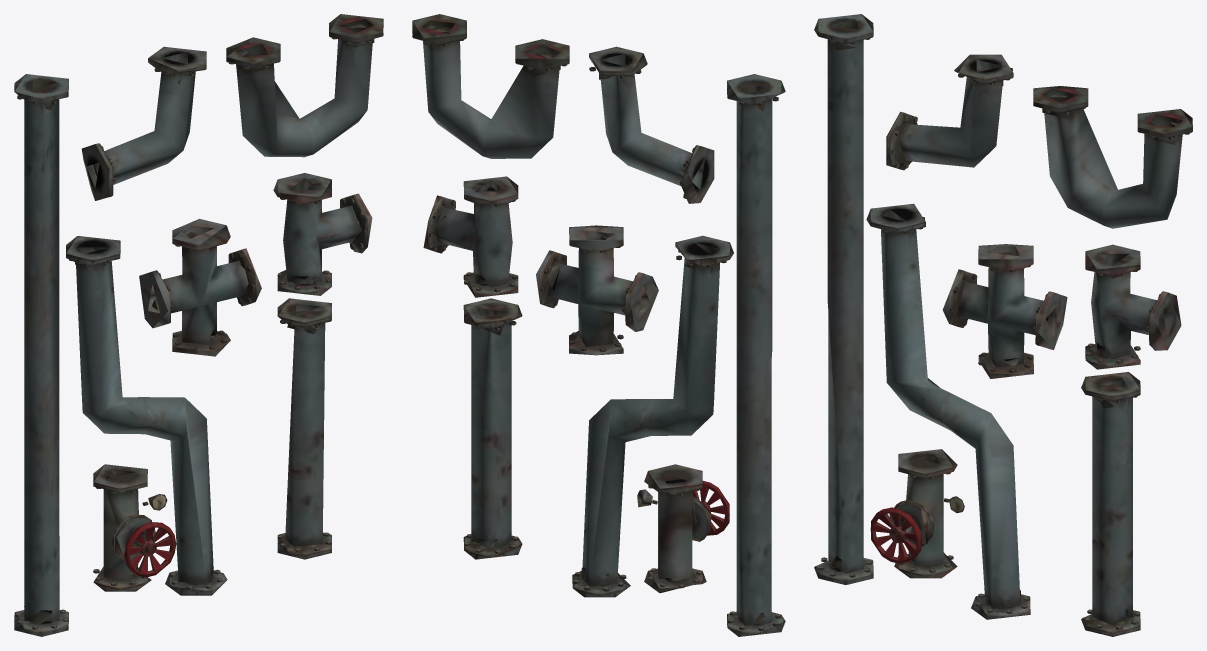
The model's file is modular_industrial_pipes_01_lod2.glb.
3 renders of one model, left to right at view 1: azimuth 30°, elevation 25°; view 2: azimuth 150°, elevation 25°; view 3: azimuth 330°, elevation 25°, orthographic.
Visible parts, largest first — view 1: modular_industrial_pipes_01_pipe01, modular_industrial_pipes_01_pipe05; view 2: modular_industrial_pipes_01_pipe01, modular_industrial_pipes_01_pipe05; view 3: modular_industrial_pipes_01_pipe01, modular_industrial_pipes_01_pipe05.
Boxes of the visible parts, x1,y1,x2,y2 form: modular_industrial_pipes_01_pipe01: (14,46,331,636); modular_industrial_pipes_01_pipe05: (93,14,383,591); modular_industrial_pipes_01_pipe01: (463,46,785,636); modular_industrial_pipes_01_pipe05: (412,14,729,592); modular_industrial_pipes_01_pipe01: (814,14,1140,636); modular_industrial_pipes_01_pipe05: (870,86,1192,578).
Size of the model in its own units: 1.4 by 1.95 by 0.3072.
2 materials, 2 textured.
